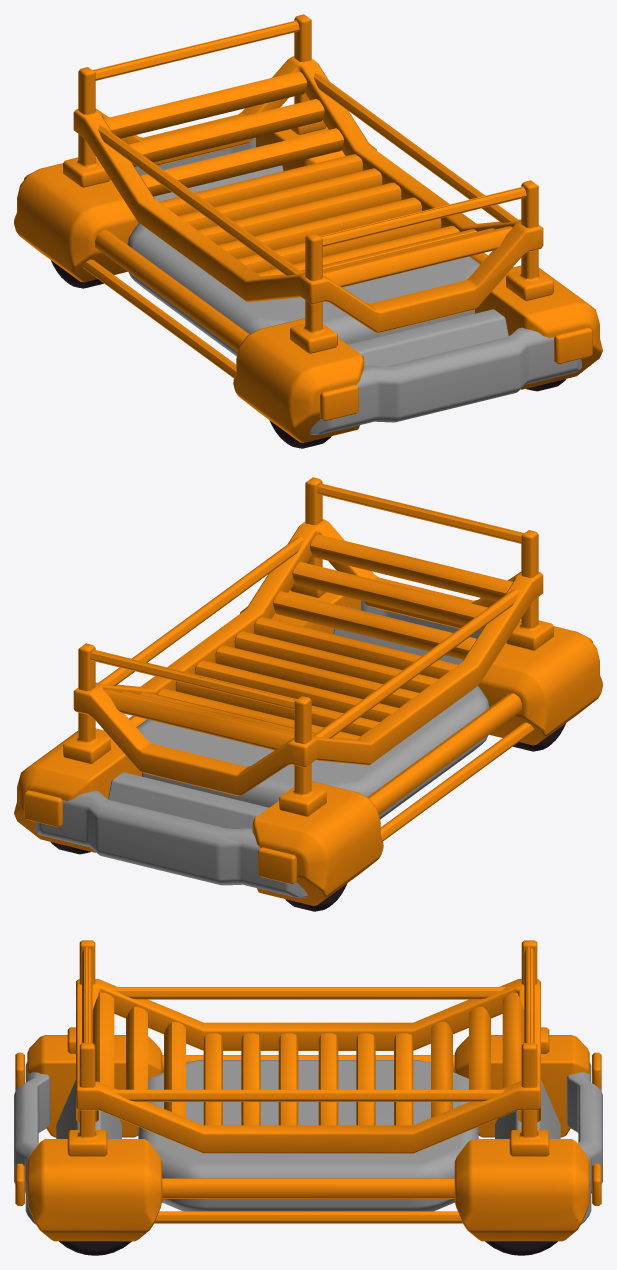
Rendered from Cart.fbx.
The picture shows the model from 3 angles, top to bottom: view 1: azimuth 30°, elevation 25°; view 2: azimuth 150°, elevation 25°; view 3: azimuth 270°, elevation 25°; orthographic projection. The views are drawn at different scales.
Visible parts, largest first — view 1: Cube.073; view 2: Cube.073; view 3: Cube.073.
Boxes of the visible parts, x1,y1,x2,y2 form: Cube.073: (14,14,602,448); Cube.073: (14,477,602,911); Cube.073: (14,940,602,1255).
Size of the model in its own units: 85.2 by 54.37 by 143.
